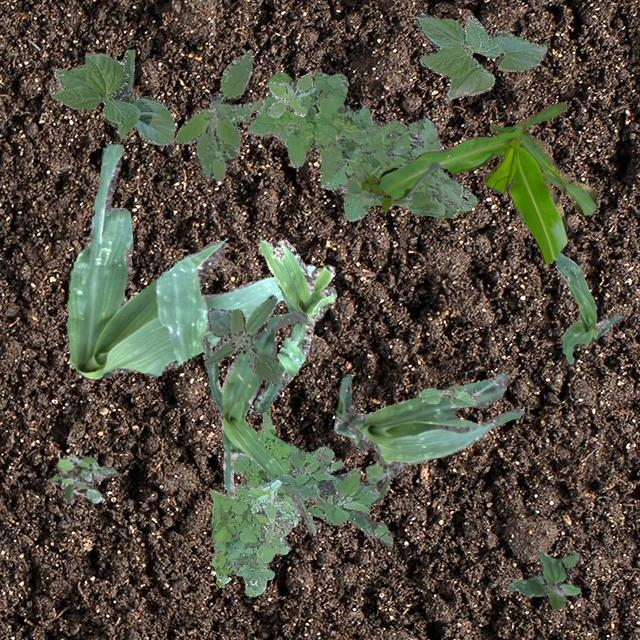crop: (66, 142, 314, 378), (377, 100, 596, 264), (200, 310, 316, 534), (332, 372, 524, 463), (252, 238, 336, 412), (49, 49, 172, 144), (414, 12, 546, 98), (554, 250, 620, 362), (418, 386, 476, 406)
weed: (247, 72, 476, 220), (208, 407, 332, 596), (174, 49, 264, 180), (274, 448, 392, 546), (202, 294, 282, 382), (506, 550, 580, 610), (246, 478, 298, 542), (50, 452, 114, 503), (266, 72, 314, 116), (364, 451, 406, 496), (360, 174, 400, 210)
